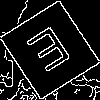E: (24, 25, 79, 82)
